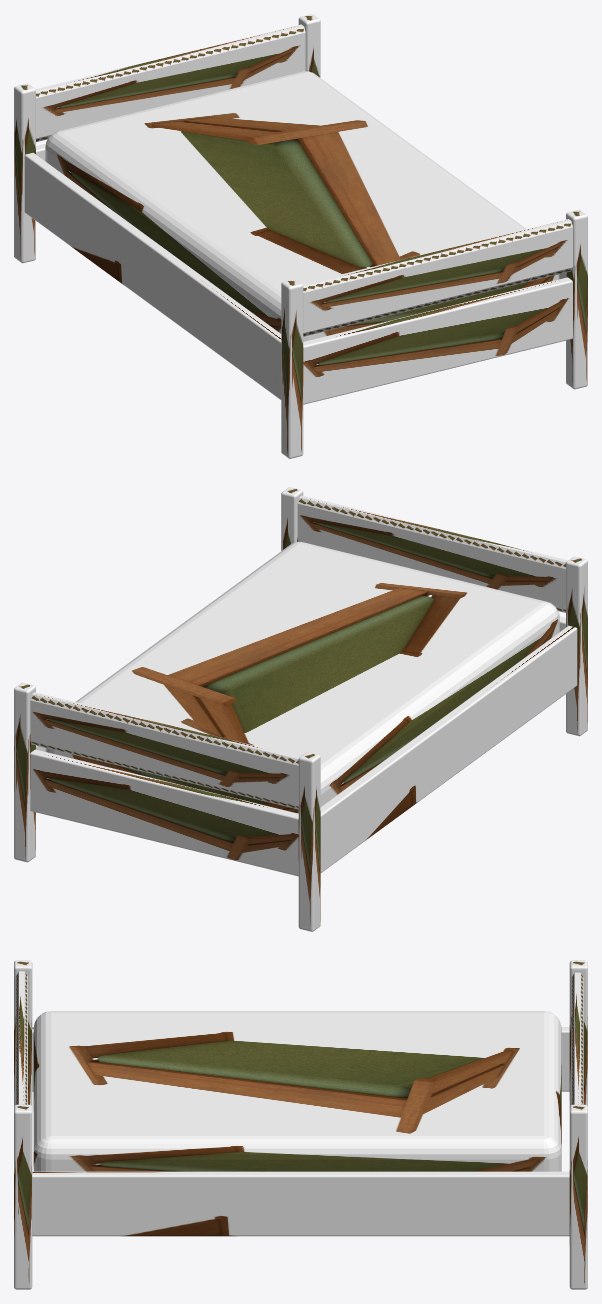
File: vintage-bed.glb
3 views of the same model, one above another, from view 1: azimuth 30°, elevation 25°; view 2: azimuth 150°, elevation 25°; view 3: azimuth 270°, elevation 25° (orthographic). The views are drawn at different scales.
Visible parts, largest first — view 1: product; view 2: product; view 3: product.
Part boxes in pixels (box(x1,y1,x2,y2)): product: box(14, 14, 587, 458); product: box(14, 487, 587, 931); product: box(14, 960, 587, 1289).
Size of the model in its own units: 0.6272 by 0.3438 by 1.
1 material, 1 textured.
